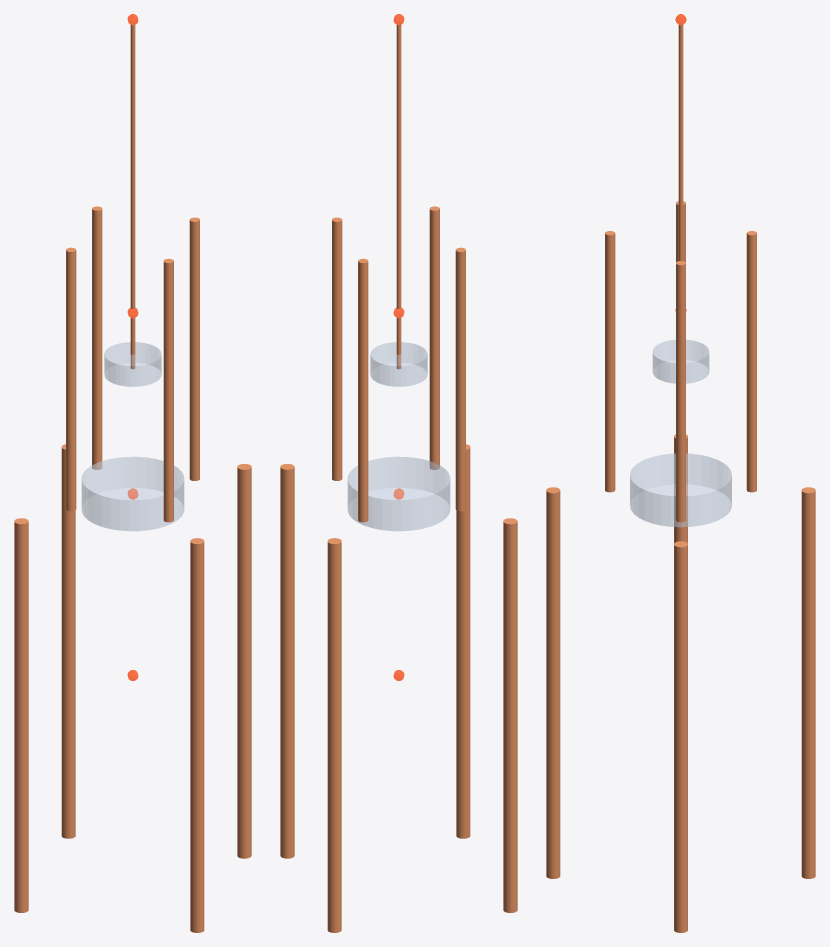
Rendered from tokyo_tower.glb.
The picture shows the model from 3 angles, left to right: view 1: azimuth 30°, elevation 25°; view 2: azimuth 150°, elevation 25°; view 3: azimuth 270°, elevation 25°; orthographic projection.
Visible parts, largest first — view 1: Cylinder.008, Cylinder, Cylinder.002, Cylinder.003, Cylinder.001, Cylinder.004, Cylinder.007, Cylinder.006, Cylinder.005, Cylinder.009, Cylinder.010; view 2: Cylinder.008, Cylinder, Cylinder.002, Cylinder.001, Cylinder.003, Cylinder.004, Cylinder.005, Cylinder.006, Cylinder.007, Cylinder.009, Cylinder.010; view 3: Cylinder.008, Cylinder.001, Cylinder.003, Cylinder, Cylinder.005, Cylinder.007, Cylinder.004, Cylinder.009, Cylinder.010, Cylinder.002.
Part boxes in pixels (x1,y1,x2,y2): Cylinder.008: (81, 456, 184, 531); Cylinder: (237, 463, 251, 858); Cylinder.002: (14, 518, 28, 912); Cylinder.003: (190, 538, 204, 932); Cylinder.001: (61, 444, 75, 838); Cylinder.004: (189, 217, 199, 480); Cylinder.007: (163, 258, 173, 522); Cylinder.006: (66, 247, 76, 511); Cylinder.005: (92, 206, 102, 469); Cylinder.009: (104, 342, 161, 386); Cylinder.010: (130, 25, 135, 369); Cylinder.008: (347, 456, 450, 531); Cylinder: (280, 463, 294, 858); Cylinder.002: (503, 518, 517, 912); Cylinder.001: (327, 538, 341, 932); Cylinder.003: (456, 444, 470, 838); Cylinder.004: (332, 217, 342, 480); Cylinder.005: (358, 258, 368, 522); Cylinder.006: (455, 247, 465, 511); Cylinder.007: (429, 206, 439, 469); Cylinder.009: (370, 342, 427, 386); Cylinder.010: (396, 25, 401, 369); Cylinder.008: (630, 453, 731, 527); Cylinder.001: (801, 487, 815, 878); Cylinder.003: (546, 487, 560, 878); Cylinder: (674, 541, 687, 932); Cylinder.005: (746, 231, 756, 492); Cylinder.007: (605, 231, 615, 492); Cylinder.004: (676, 261, 685, 522); Cylinder.009: (652, 339, 709, 383); Cylinder.010: (678, 25, 683, 260); Cylinder.002: (674, 434, 687, 542).
Size of the model in its own units: 95 by 335 by 95.
